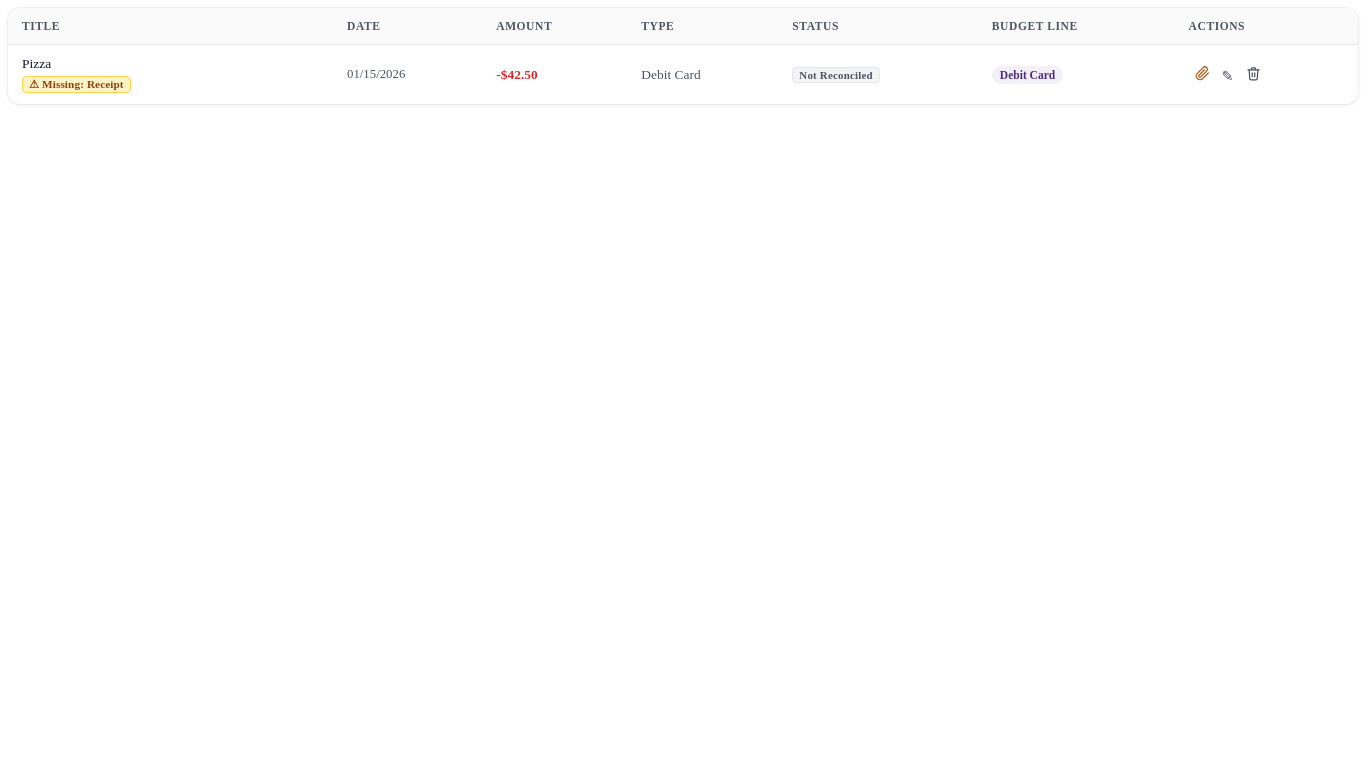
Test case: TransactionList › shows an error message when the delete request fails, and keeps the confirmation open
What coordinates should you click on to do the following:
click the button named "Delete transaction"
I would click on:
 (1253, 74)
Its box is [1240, 62, 1267, 88].
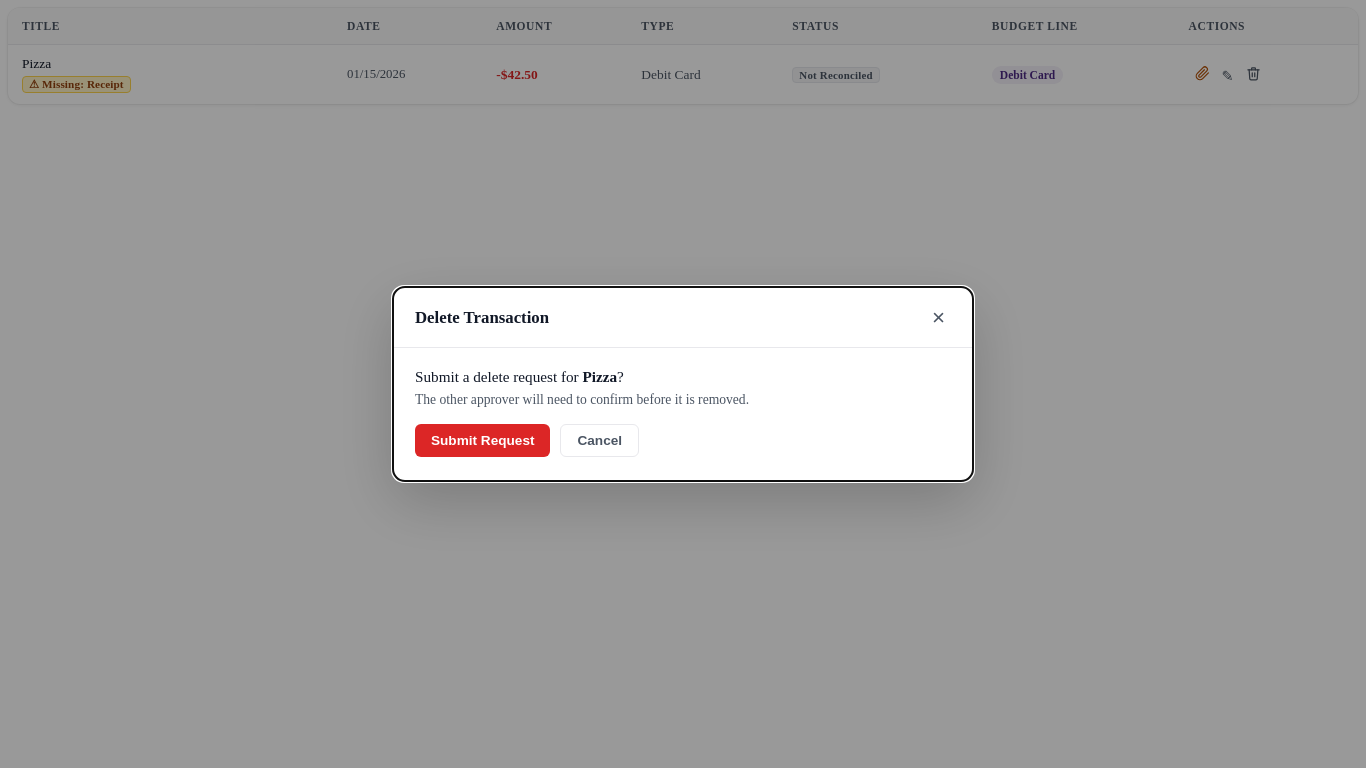
What coordinates should you click on to do the following:
click the button "Submit Request"
I would click on:
 (483, 441)
Its box is [415, 424, 550, 457].
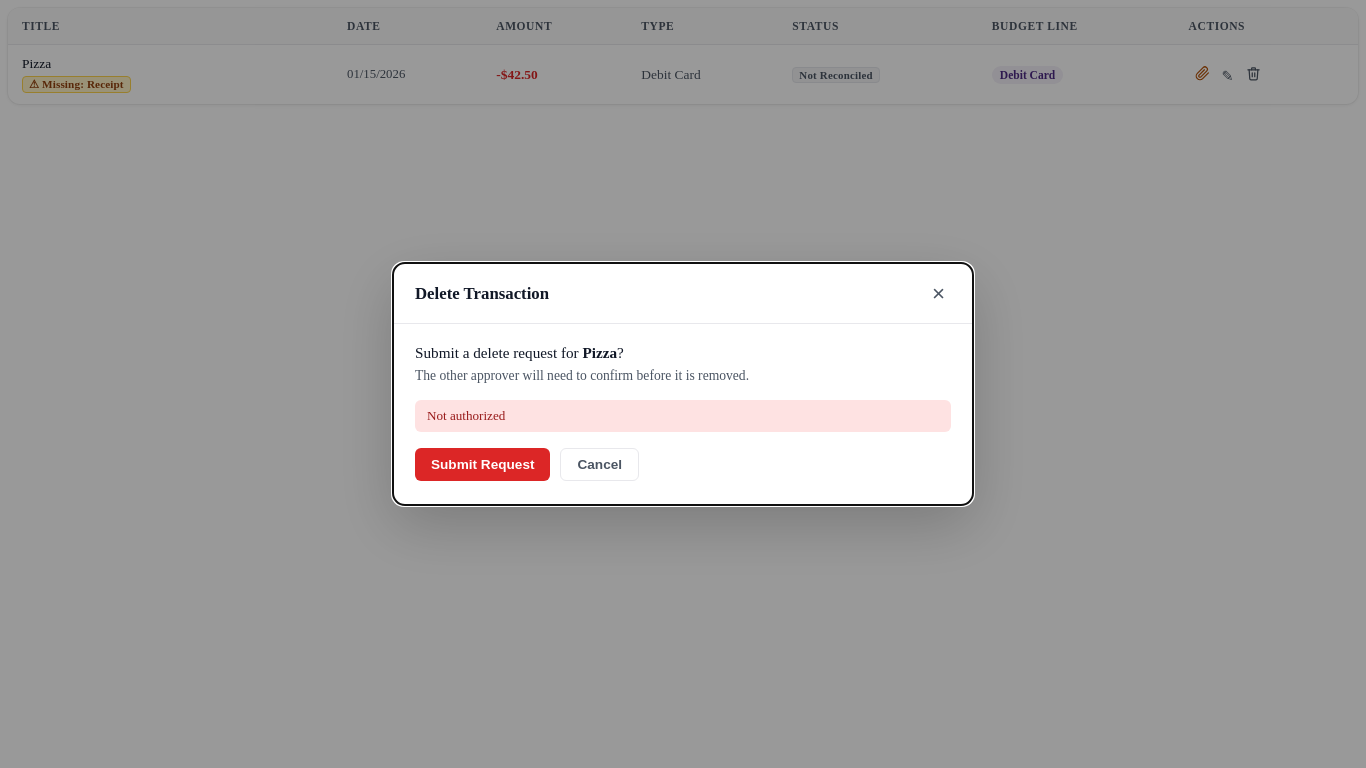
Check: the text "Submit a delete request for Pizza?" is shown, box [415, 344, 624, 361]
Check: the text "Not authorized" is shown, box [415, 400, 951, 432]
